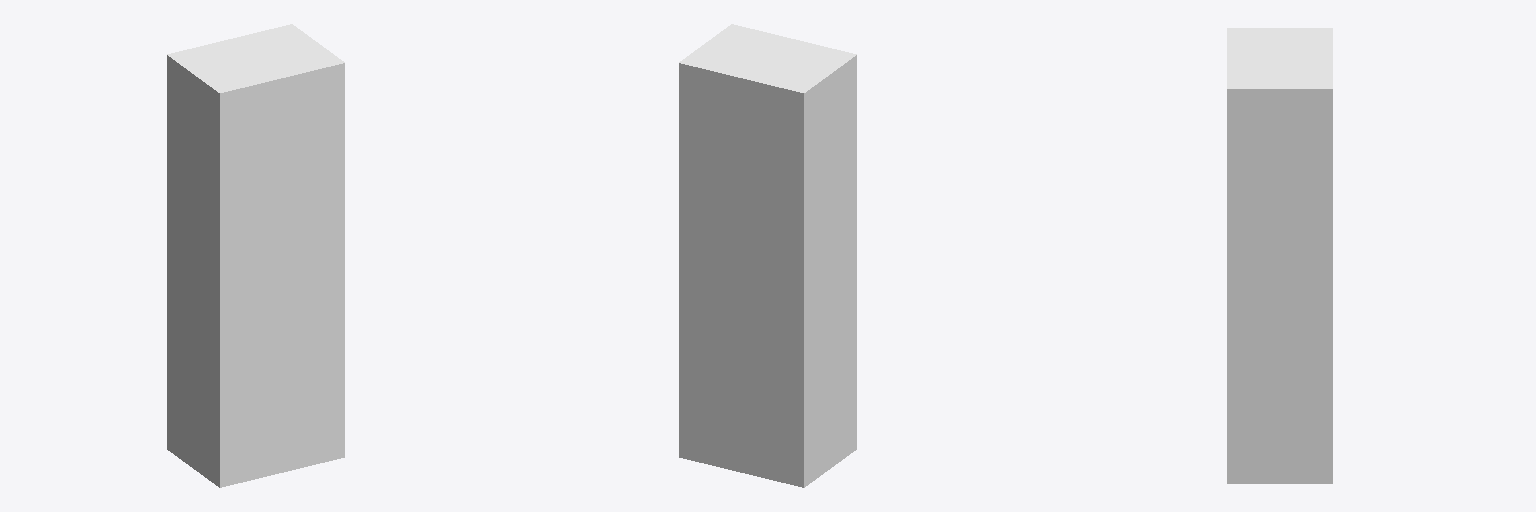
File: building_night.obj
3 renders of one model, left to right at view 1: azimuth 30°, elevation 25°; view 2: azimuth 150°, elevation 25°; view 3: azimuth 270°, elevation 25°, orthographic.
Parts seen in each view (by area): view 1: object 1; view 2: object 1; view 3: object 1.
Boxes of the visible parts, x1=… form: object 1: x1=167, y1=24, x2=344, y2=487; object 1: x1=679, y1=24, x2=856, y2=487; object 1: x1=1227, y1=28, x2=1332, y2=483.
Size of the model in its own units: 30 by 90 by 22.